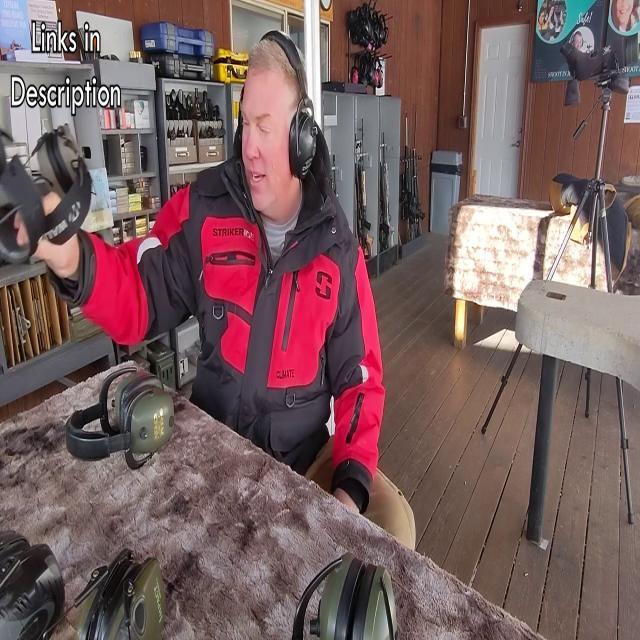earmuff: (287, 106, 320, 183), (235, 81, 247, 139)
